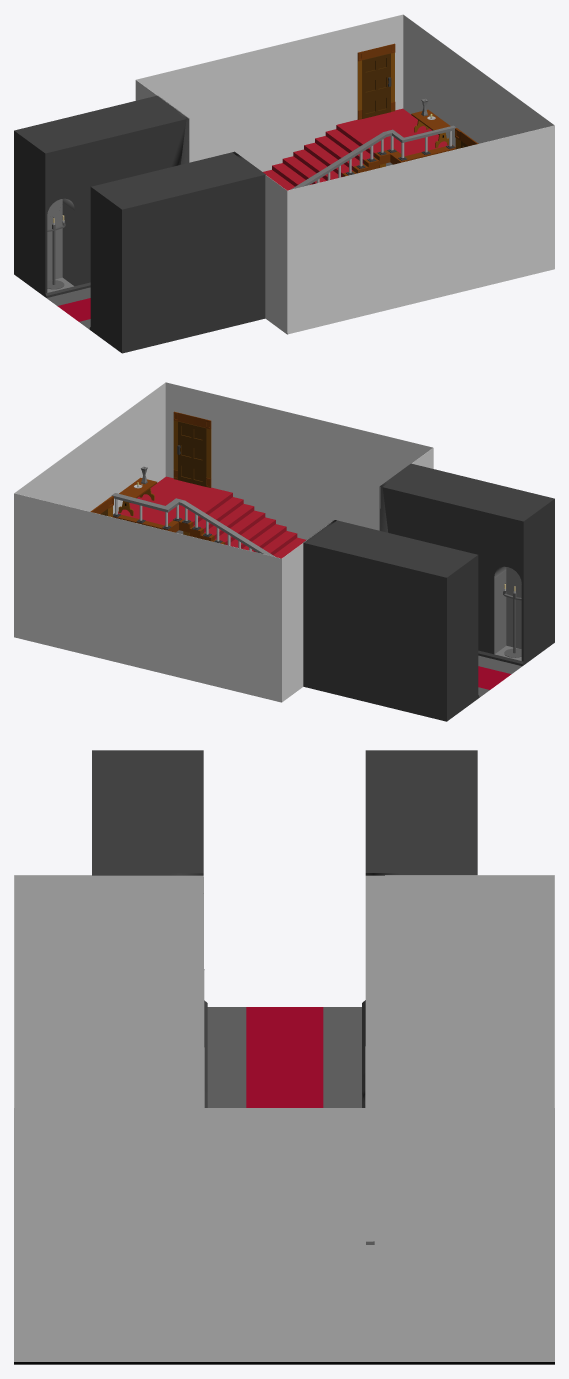
File: MansionEntranceHallScene.fbx
The picture shows the model from 3 angles, top to bottom: view 1: azimuth 30°, elevation 25°; view 2: azimuth 150°, elevation 25°; view 3: azimuth 270°, elevation 25°; orthographic projection. The views are drawn at different scales.
Parts seen in each view (by area): view 1: polySurface1, Wall2, Wall1, Wall3, StairCase2, Wall5, Door3, StairRailing, DoorFrame1, Table:Table, TripleCandleHolder3; view 2: polySurface1, Wall1, Wall2, Wall3, StairCase, Wall4, Door4, StairRailing1, DoorFrame2, Table1; view 3: Wall3, polySurface1, Wall5, Wall4.
Boxes of the visible parts, x1,y1,x2,y2 form: polySurface1: [14, 95, 392, 353]; Wall2: [287, 125, 554, 334]; Wall1: [136, 14, 403, 171]; Wall3: [403, 14, 554, 146]; StairCase2: [263, 108, 455, 190]; Wall5: [265, 175, 286, 333]; Door3: [362, 53, 391, 118]; StairRailing: [291, 125, 455, 189]; DoorFrame1: [357, 43, 395, 119]; Table:Table: [411, 109, 450, 147]; TripleCandleHolder3: [47, 215, 65, 289]; polySurface1: [176, 463, 554, 721]; Wall1: [14, 493, 281, 702]; Wall2: [165, 382, 433, 539]; Wall3: [14, 382, 165, 573]; StairCase: [113, 476, 305, 558]; Wall4: [281, 520, 333, 702]; Door4: [177, 421, 206, 486]; StairRailing1: [111, 493, 275, 556]; DoorFrame2: [173, 411, 211, 487]; Table1: [118, 477, 157, 515]; Wall3: [14, 1108, 554, 1364]; polySurface1: [92, 750, 477, 1107]; Wall5: [14, 875, 204, 1107]; Wall4: [385, 875, 554, 1107].
Size of the model in its own units: 206 by 68.84 by 131.
Materials: 3 (3 with a texture image).
